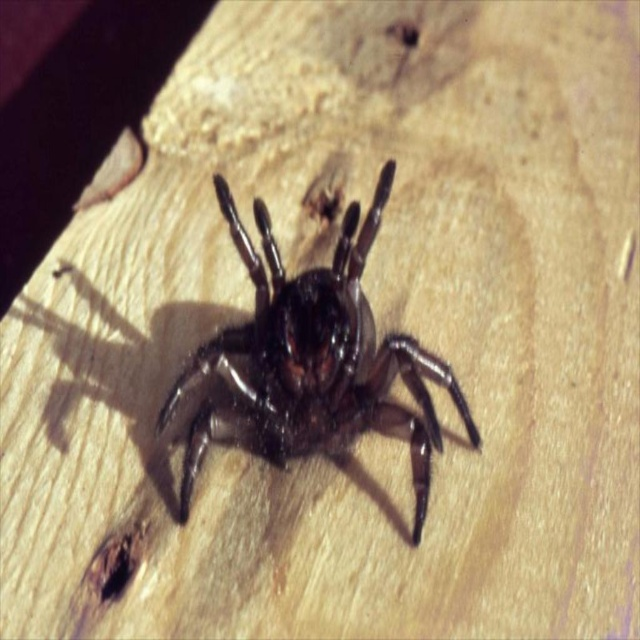Spider: (153, 157, 484, 546)
